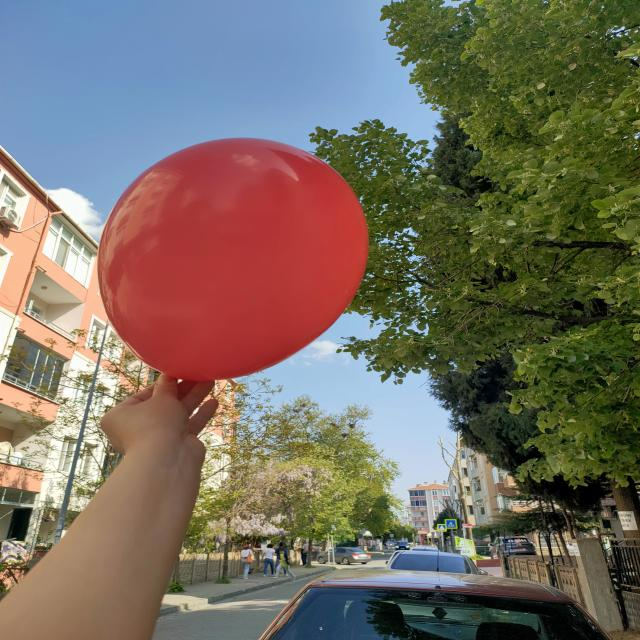red: (100, 140, 370, 383)
